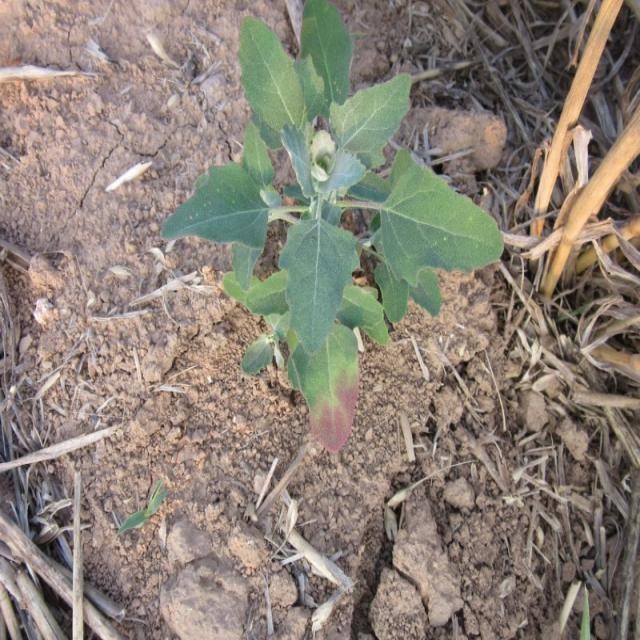ca: (157, 2, 504, 416)
